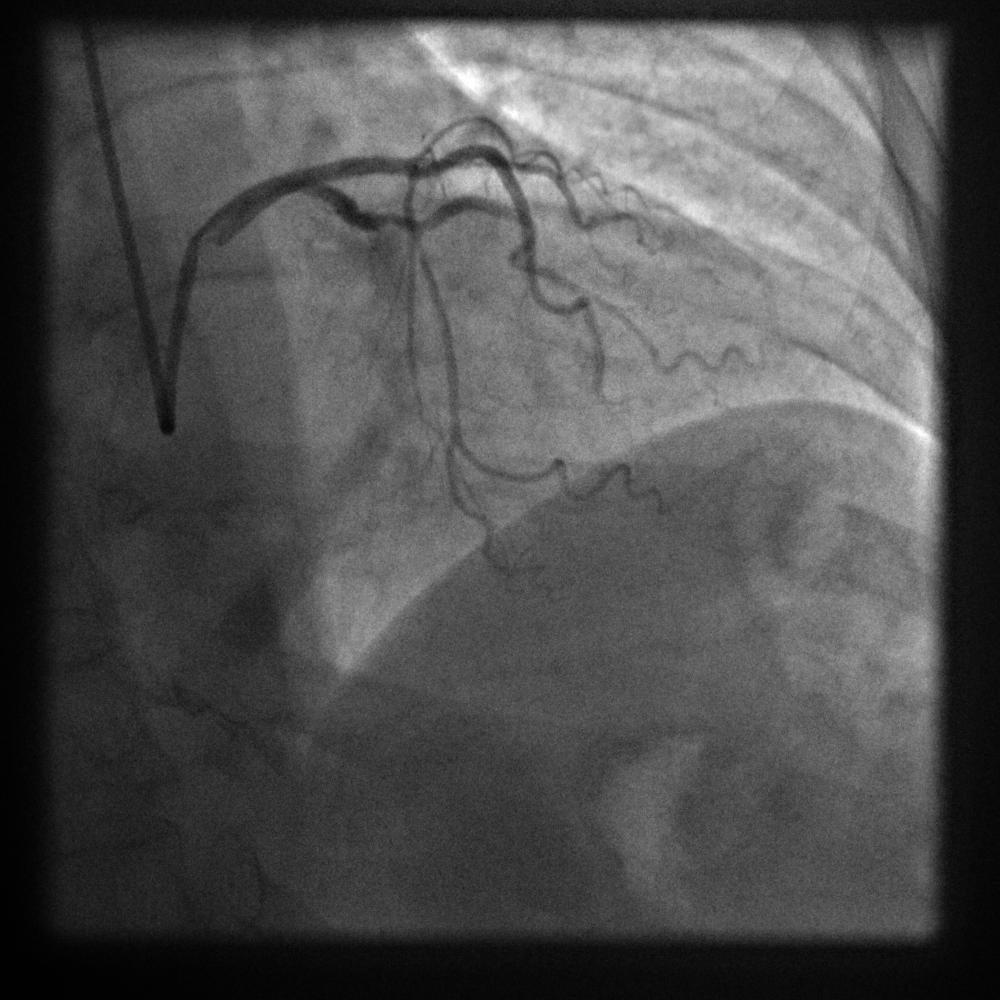Stenosis: (340, 199, 427, 238)
